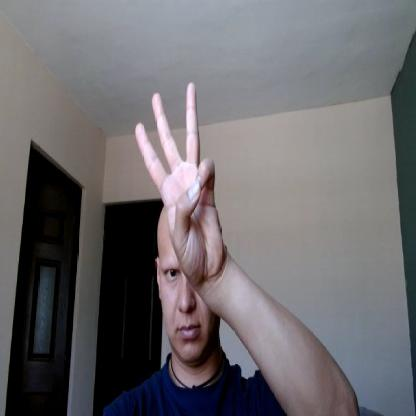W: (133, 82, 224, 284)
